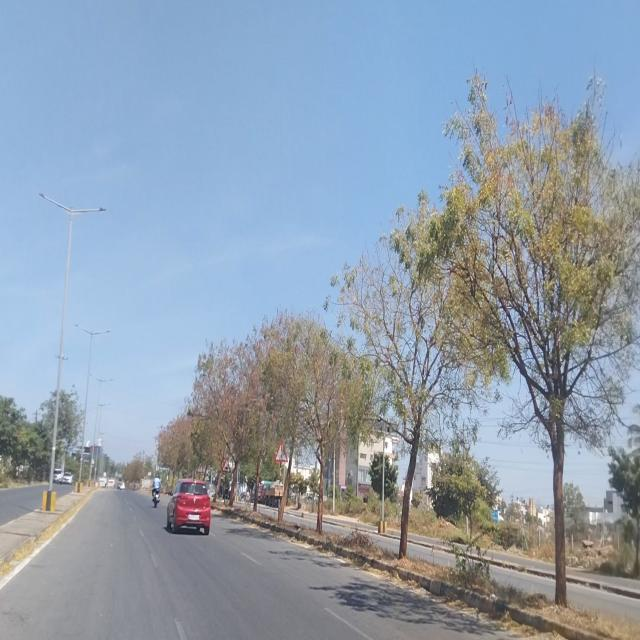bien_cam: (274, 439, 288, 463), (222, 458, 231, 473)
